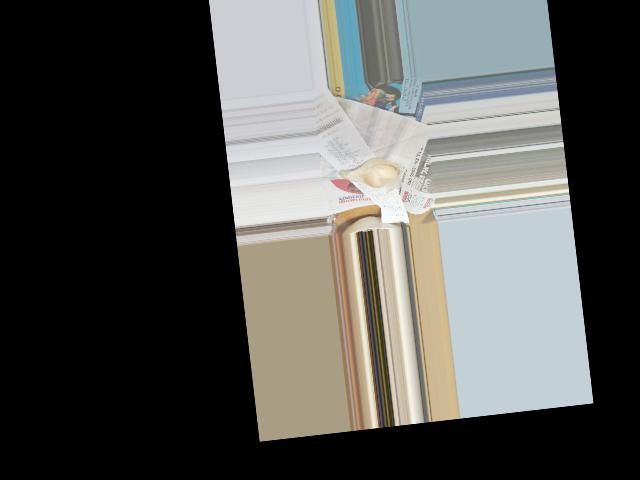onion: (341, 154, 399, 190)
